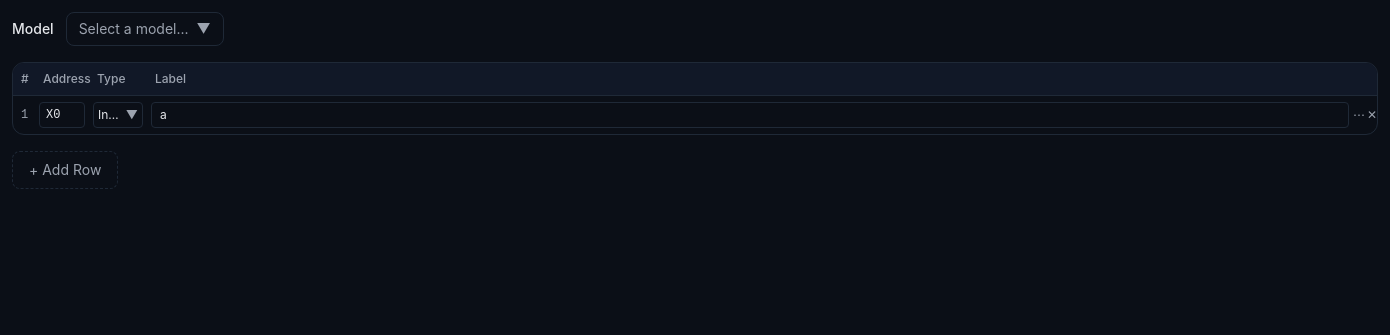
IOMappingTable › octal address validator (M10.3.1) › shows the Arabic octal error inline when X8 is typed
Replace the text in the field with test id "io-address-0" with "X8" at [62, 115], box [39, 102, 85, 128]
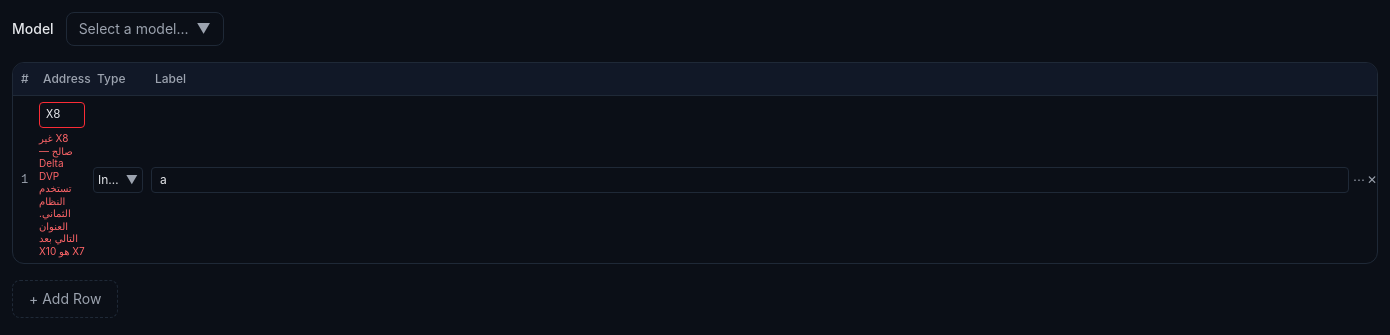
Check: the text with test id "io-address-0-error" is shown, box [39, 132, 85, 257]
Check: the text with test id "io-address-0-error" shows "غير صالح", box [39, 132, 85, 256]
Check: the text with test id "io-address-0-error" shows "X7", box [39, 132, 85, 256]
